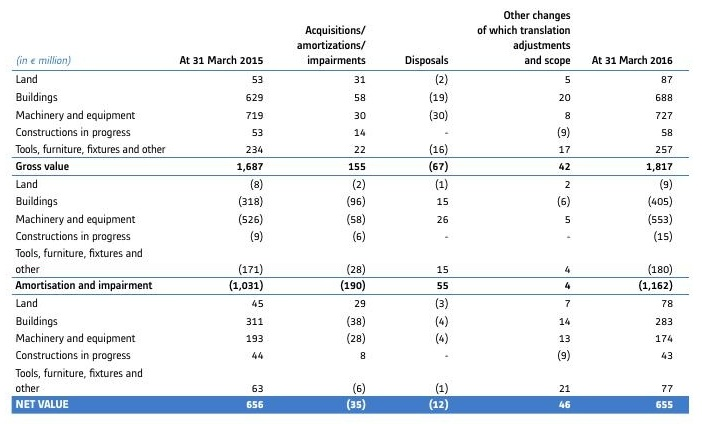table: (0, 0, 702, 424)
